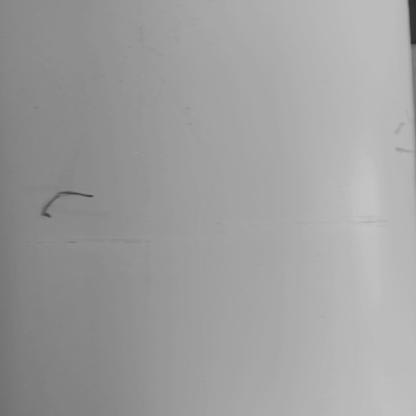fengxi: (28, 187, 99, 218)
